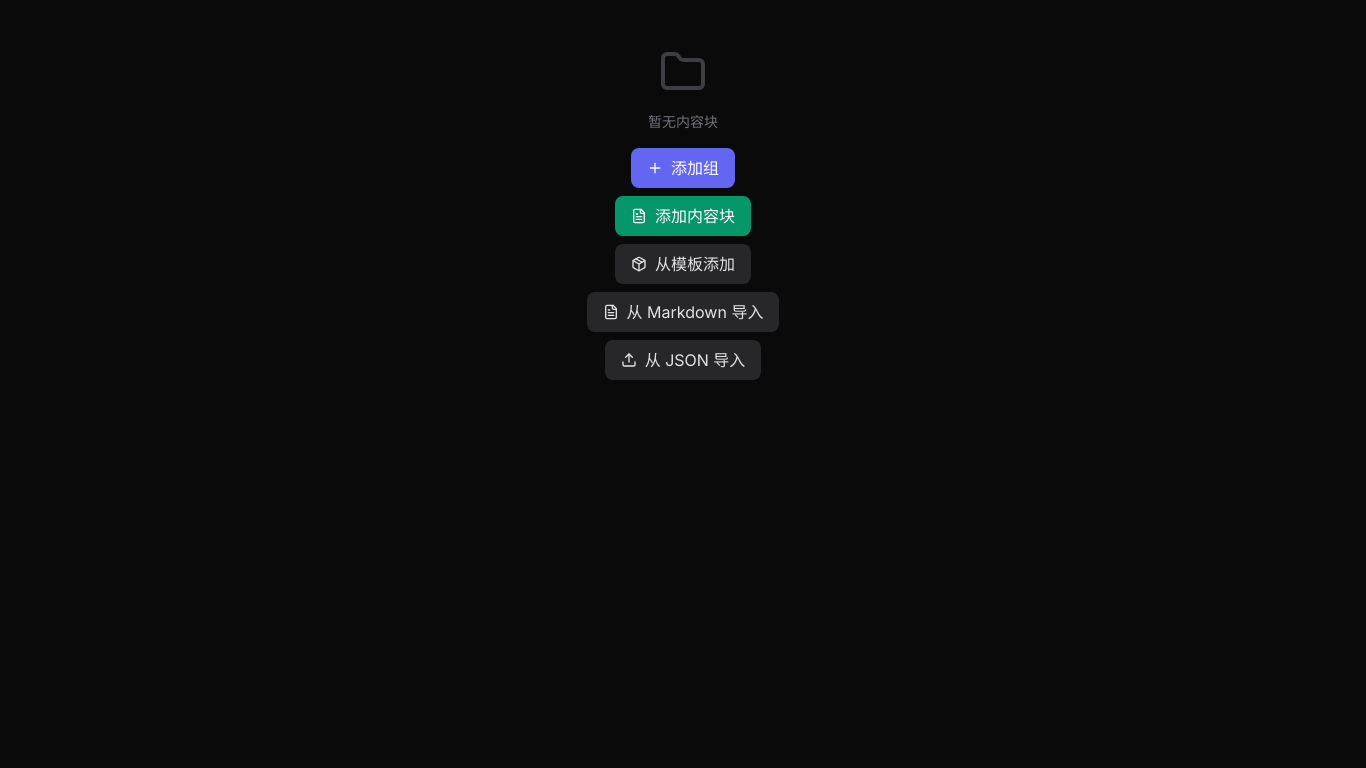
Test: BlockTree › opens the project-level template modal immediately in an empty project
Click the button "从模板添加" at point(683, 264), box [615,244,751,284]
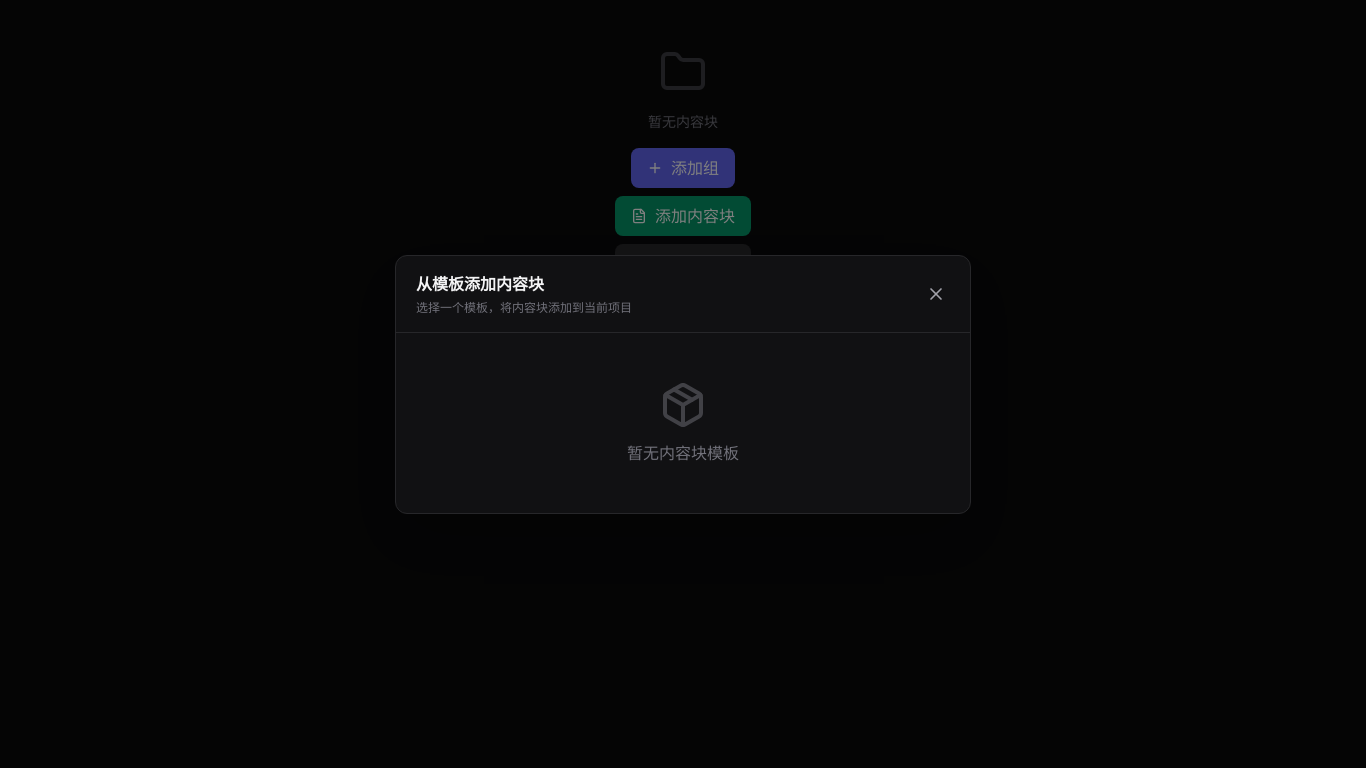
Result: the heading "从模板添加内容块" is shown at [416,274,544,294]
